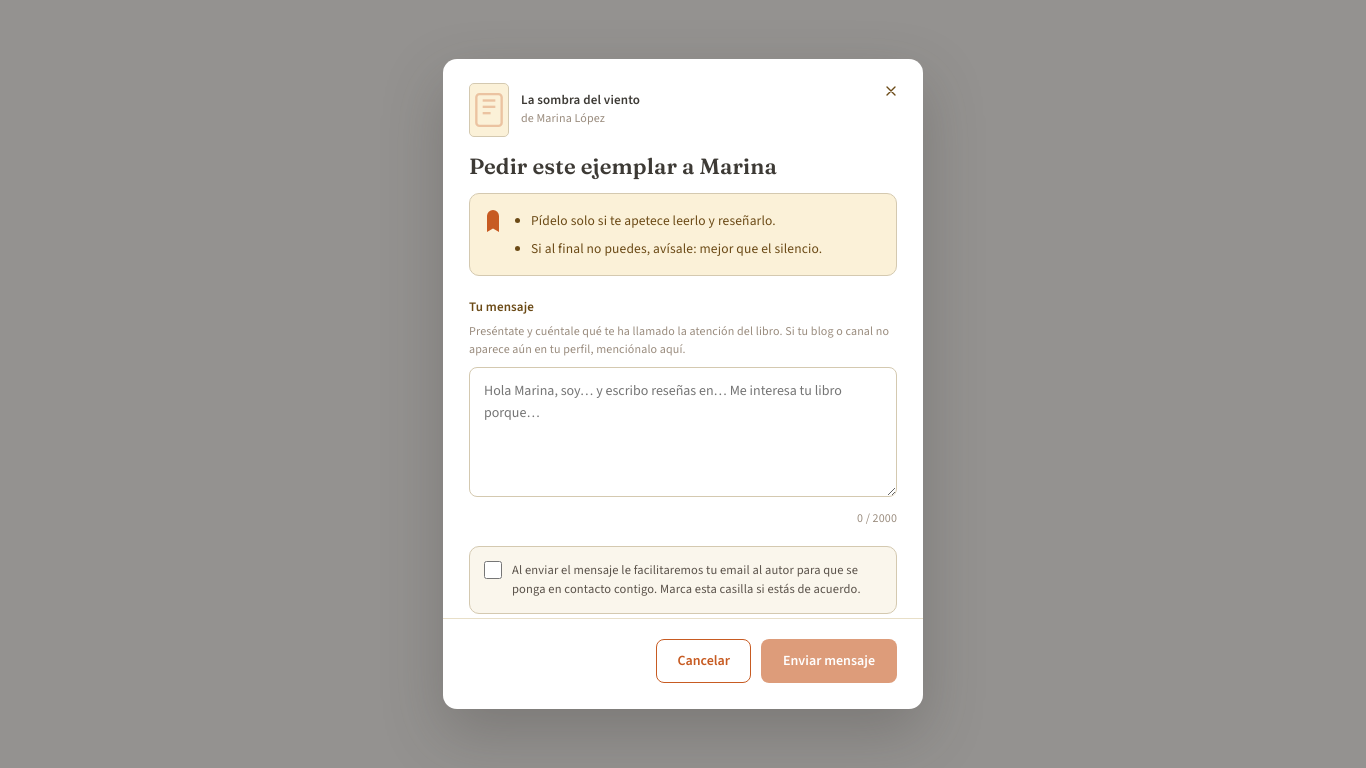
Test: ContactModal — send button enable logic › is enabled with consent and a one-word message
This screenshot has width=1366, height=768.
Click the checkbox labelled "Al enviar el mensaje le facilitaremos tu email" at (493, 570), box [484,561,502,579]
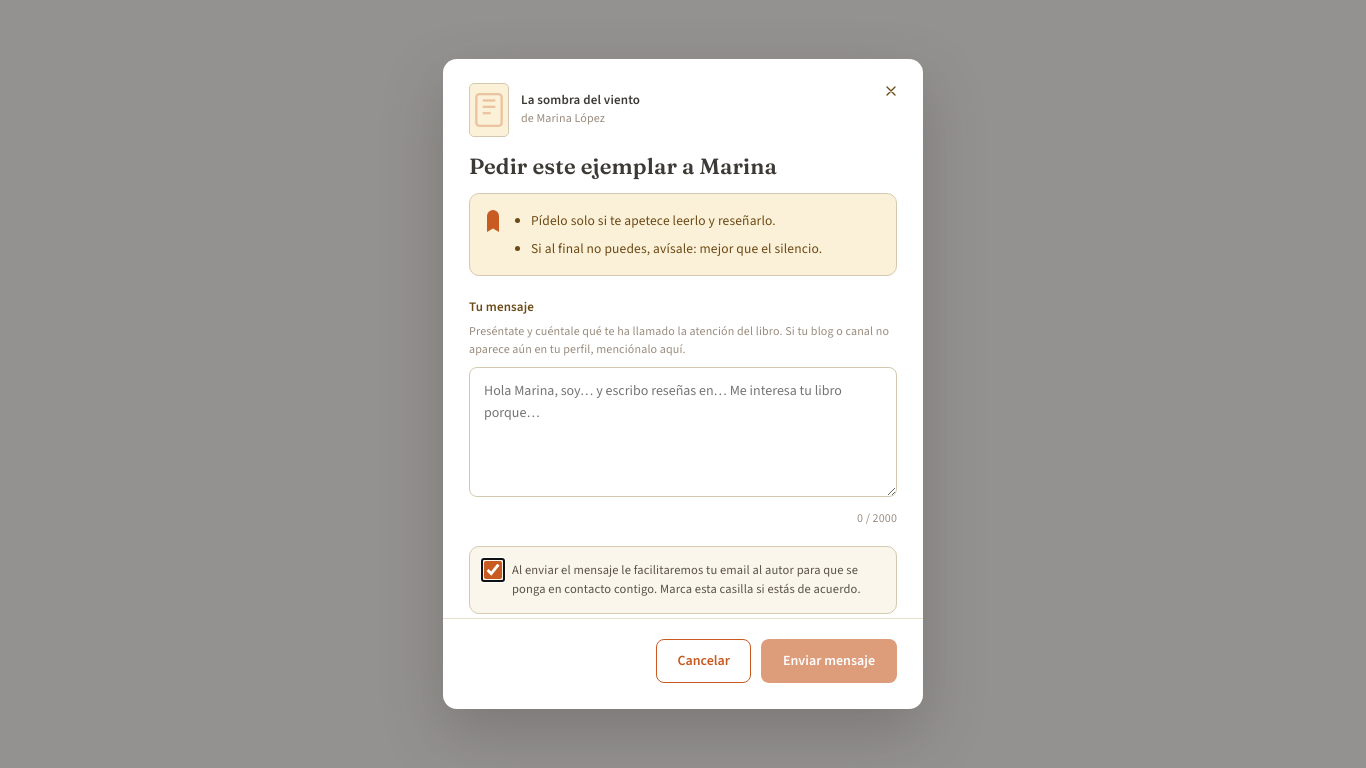
Type "Hola" into the text box labelled "Tu mensaje" at (683, 432), box [469,367,897,497]
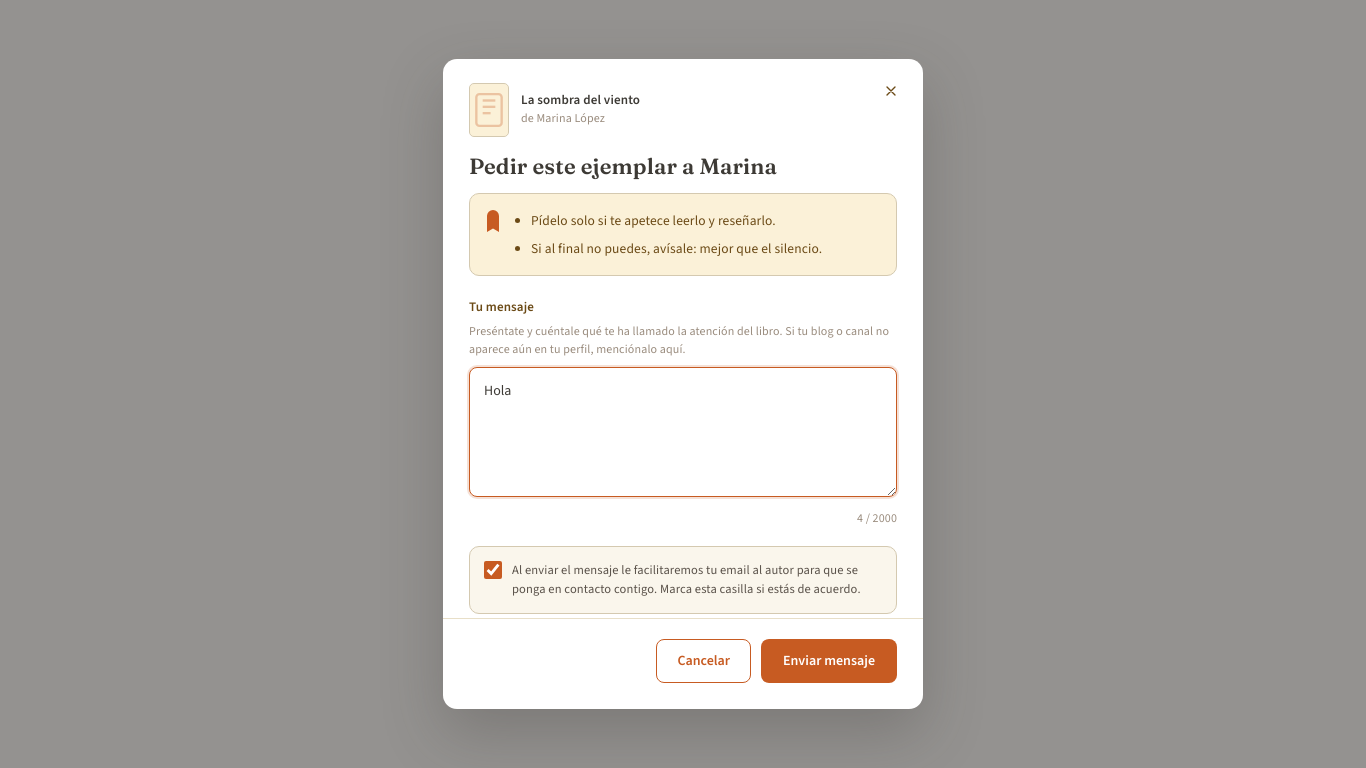
Result: the button "Enviar mensaje" is enabled at [761,639,897,683]
